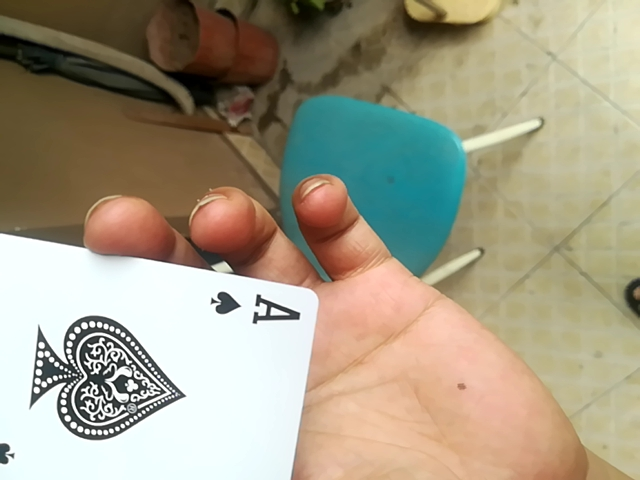ht a: (1, 203, 315, 480)
